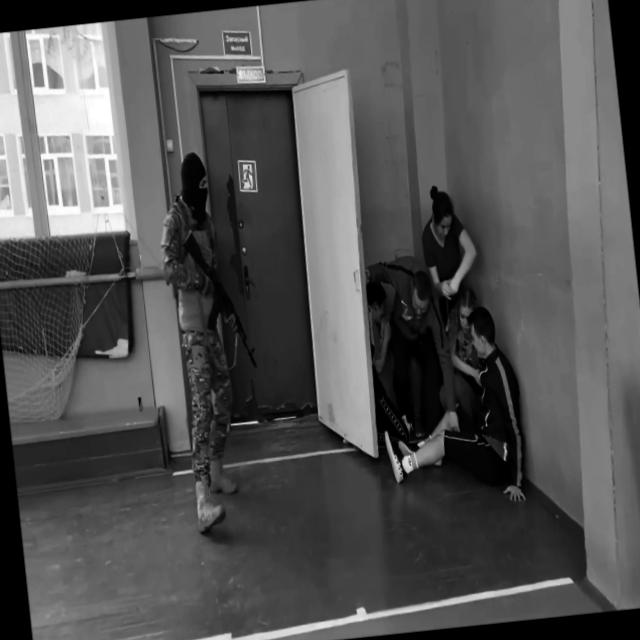gun: (179, 221, 260, 380)
person: (369, 302, 532, 516), (366, 250, 459, 444), (417, 180, 482, 320), (429, 286, 494, 422), (364, 278, 410, 452)
person with a gun: (150, 145, 276, 536)
